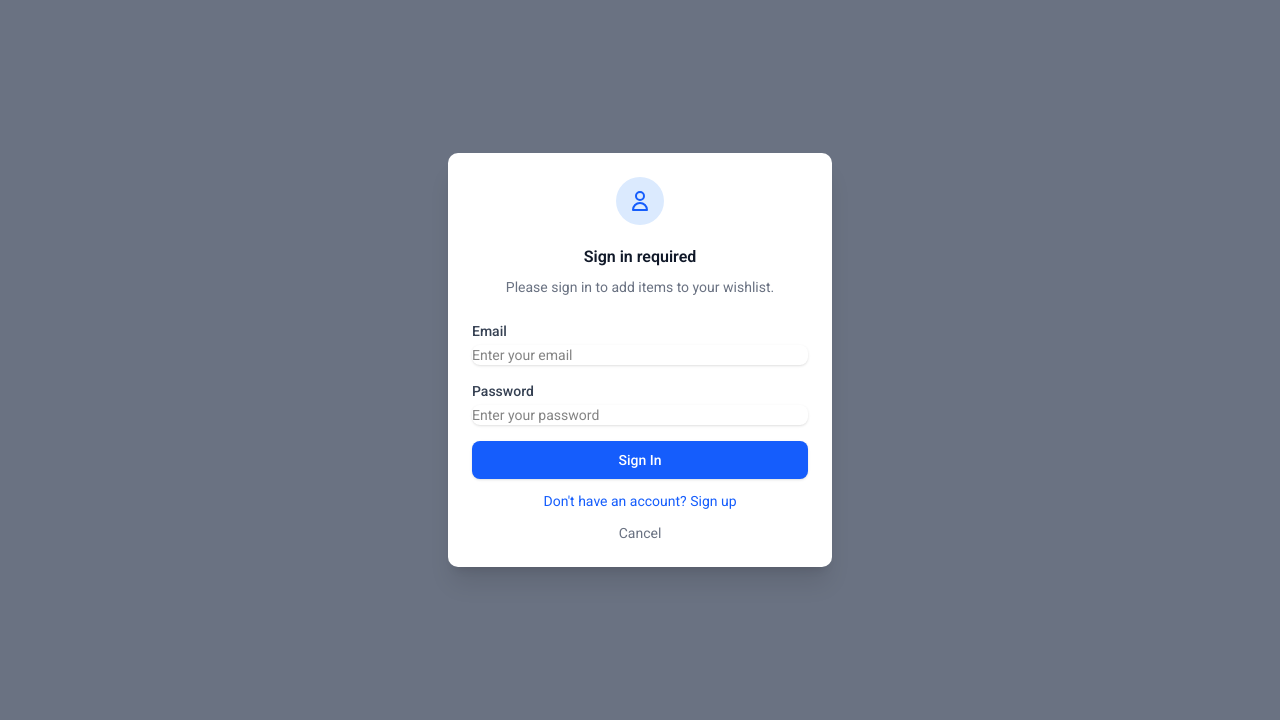
Scenario: LoginModal › should switch back to login form
Switch to registration
Step 1. Click the button "Don't have an account? Sign up" → (640, 501), box [472,491,808,511]
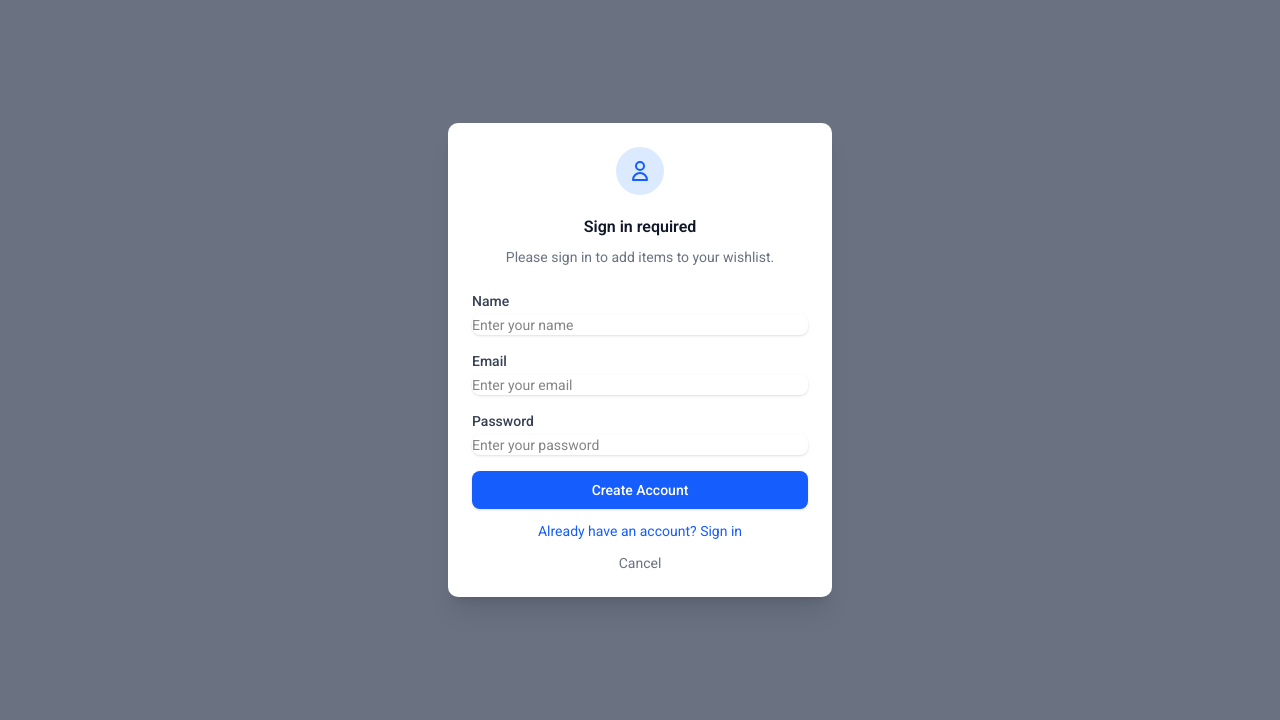
Expected: the field labelled "Name" is shown, [472,315,808,335]
Switch back to login
Step 2. Click the button "Already have an account? Sign in" → (640, 531), box [472,521,808,541]
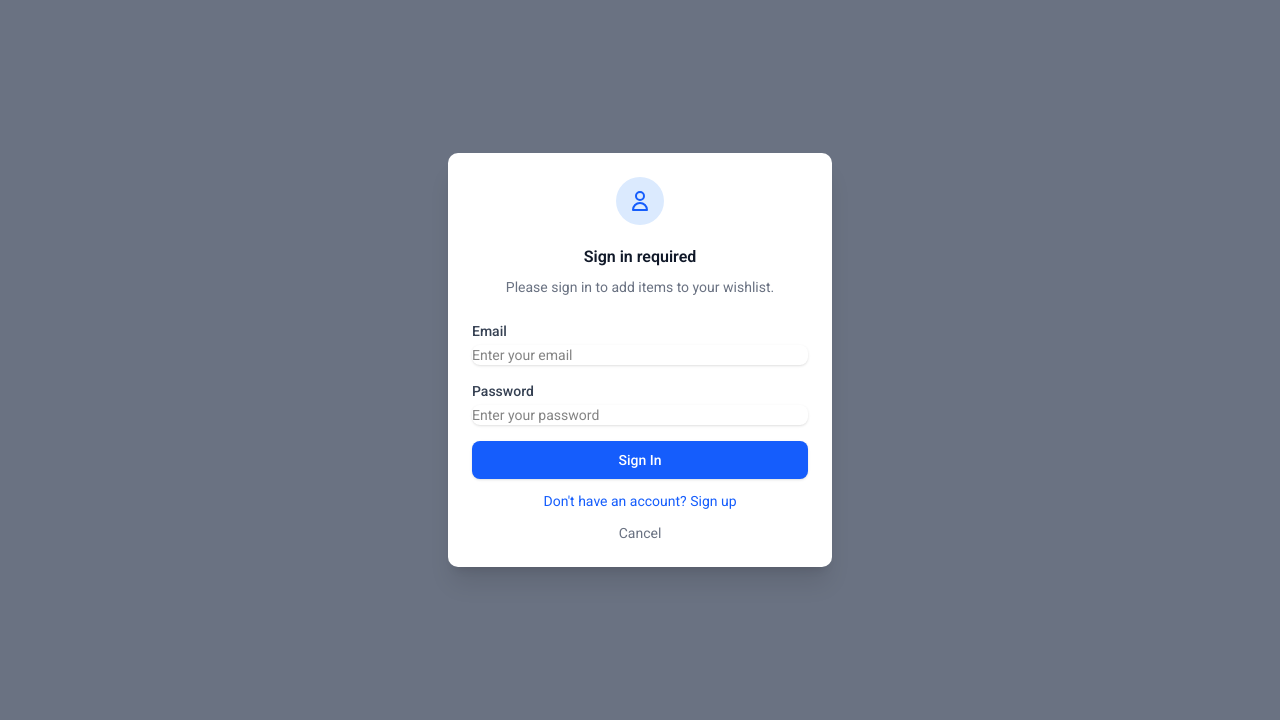
Expected: the label labelled "Name" is gone
Expected: the button "Sign In" is shown, [472,441,808,479]
